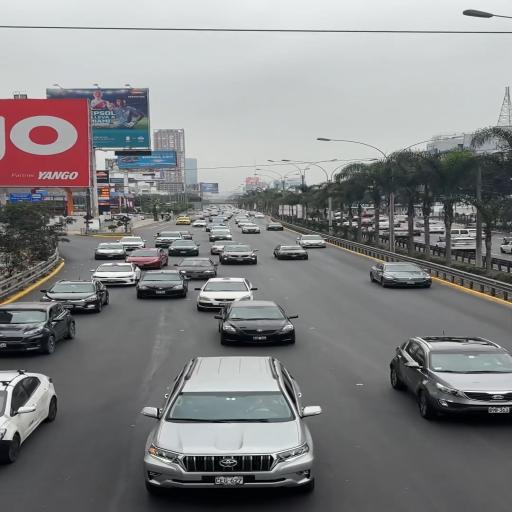auto: (138, 358, 320, 490), (388, 335, 508, 417), (0, 369, 59, 464), (0, 302, 76, 356), (213, 300, 298, 344), (40, 277, 110, 312), (196, 277, 258, 310), (133, 269, 191, 299), (369, 261, 433, 288), (90, 262, 142, 286), (124, 247, 169, 270), (172, 258, 218, 279), (218, 244, 259, 264), (93, 242, 130, 260), (166, 239, 202, 257), (272, 244, 308, 260), (154, 231, 189, 246), (209, 240, 241, 256), (295, 234, 327, 249), (116, 236, 148, 251), (265, 222, 284, 231)
